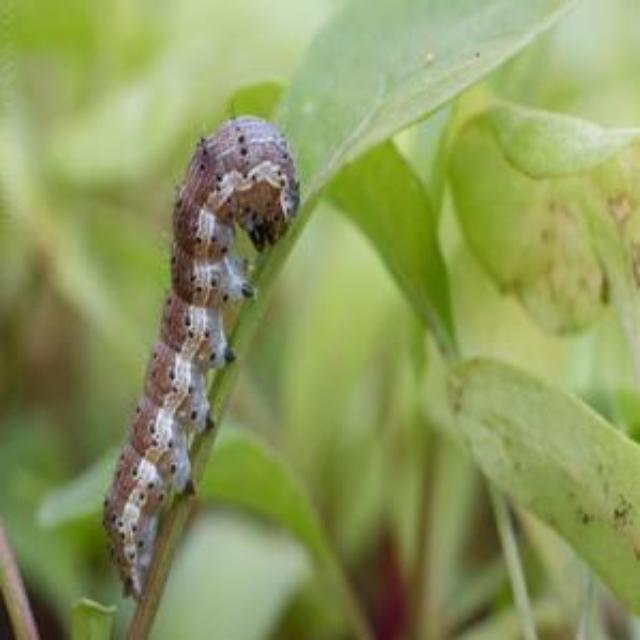Cotton bollworm: (61, 80, 312, 612)
